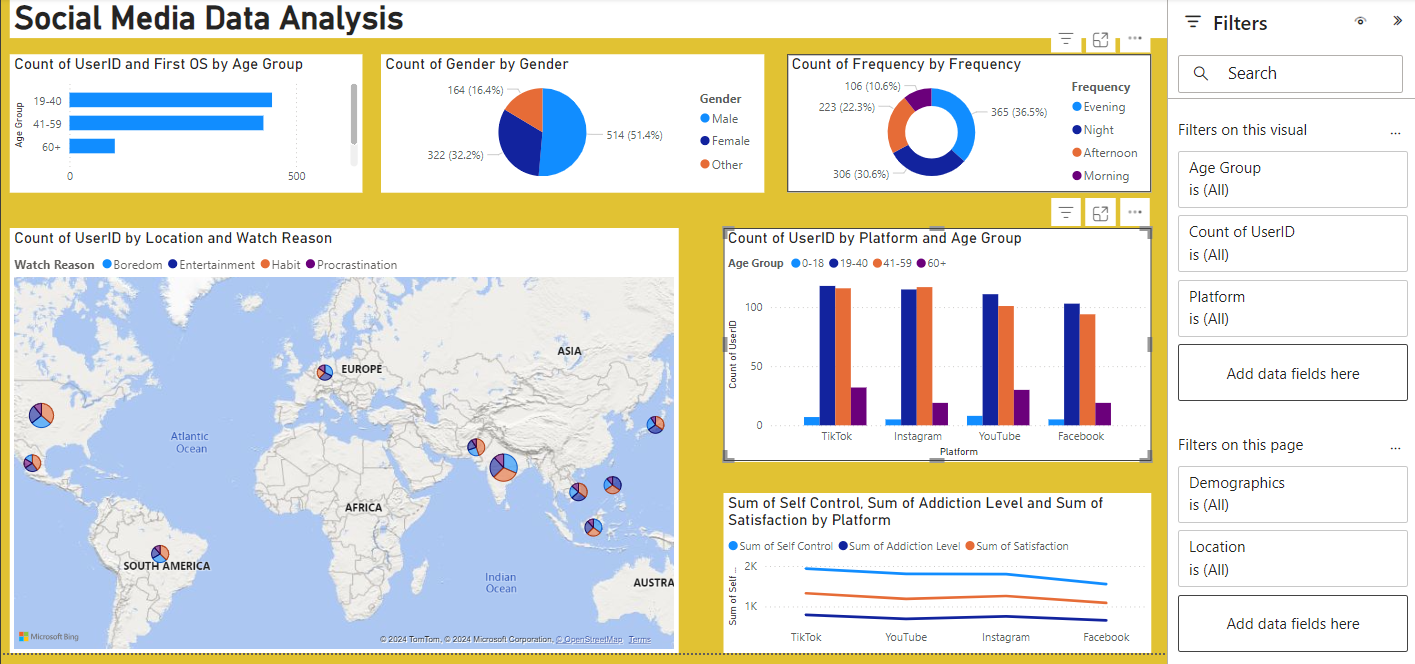

What the dashboard file says about the page in this screenshot:
{"tool":"powerbi","page":{"name":"Page 1","canvas":[1280,720],"ordinal":0},"visuals":[{"type":"textbox","title":"Social Media Data Analysis","box":[9.6,0,1270.7,44],"z":0},{"type":"clusteredBarChart","fields":{"Y":["CountNonNull(Time-Wasters on Social Media.UserID)"],"Category":["Time-Wasters on Social Media.Age Group"]},"box":[9.3,61.6,387.2,152.3],"z":1000},{"type":"pieChart","fields":{"Category":["Time-Wasters on Social Media.Gender"],"Y":["CountNonNull(Time-Wasters on Social Media.Gender)"]},"box":[417.4,61.6,420.9,152.3],"z":2000},{"type":"donutChart","fields":{"Category":["Time-Wasters on Social Media.Frequency"],"Y":["CountNonNull(Time-Wasters on Social Media.Frequency)"]},"box":[862.8,61.6,400,152.3],"z":3000},{"type":"map","fields":{"Category":["Time-Wasters on Social Media.Location"],"Size":["CountNonNull(Time-Wasters on Social Media.UserID)"],"Series":["Time-Wasters on Social Media.Watch Reason"]},"box":[9.6,252.5,734.1,467.9],"z":4000},{"type":"clusteredColumnChart","fields":{"Category":["Time-Wasters on Social Media.Platform"],"Y":["CountNonNull(Time-Wasters on Social Media.UserID)"]},"box":[793.1,252.5,469.3,193.5],"z":4001},{"type":"lineChart","fields":{"Category":["Time-Wasters on Social Media.Platform"],"Y":["Sum(Time-Wasters on Social Media.Self Control)","Sum(Time-Wasters on Social Media.Addiction Level)","Sum(Time-Wasters on Social Media.Satisfaction)"]},"box":[793.1,474.8,469.3,245.6],"z":4002}]}

Visuals, with their boxes in screenshot pixels (x1, y1, x2, y2):
"Social Media Data Analysis" textbox: bbox=[9, 0, 1163, 33]
clusteredBarChart - CountNonNull(Time-Wasters on Social Media.UserID) x Time-Wasters on Social Media.Age Group: bbox=[8, 49, 360, 187]
pieChart - Time-Wasters on Social Media.Gender x CountNonNull(Time-Wasters on Social Media.Gender): bbox=[379, 49, 762, 187]
donutChart - Time-Wasters on Social Media.Frequency x CountNonNull(Time-Wasters on Social Media.Frequency): bbox=[784, 49, 1147, 187]
map - Time-Wasters on Social Media.Location x CountNonNull(Time-Wasters on Social Media.UserID): bbox=[9, 222, 676, 647]
clusteredColumnChart - Time-Wasters on Social Media.Platform x CountNonNull(Time-Wasters on Social Media.UserID): bbox=[721, 222, 1147, 398]
lineChart - Time-Wasters on Social Media.Platform x Sum(Time-Wasters on Social Media.Self Control): bbox=[721, 424, 1147, 647]
